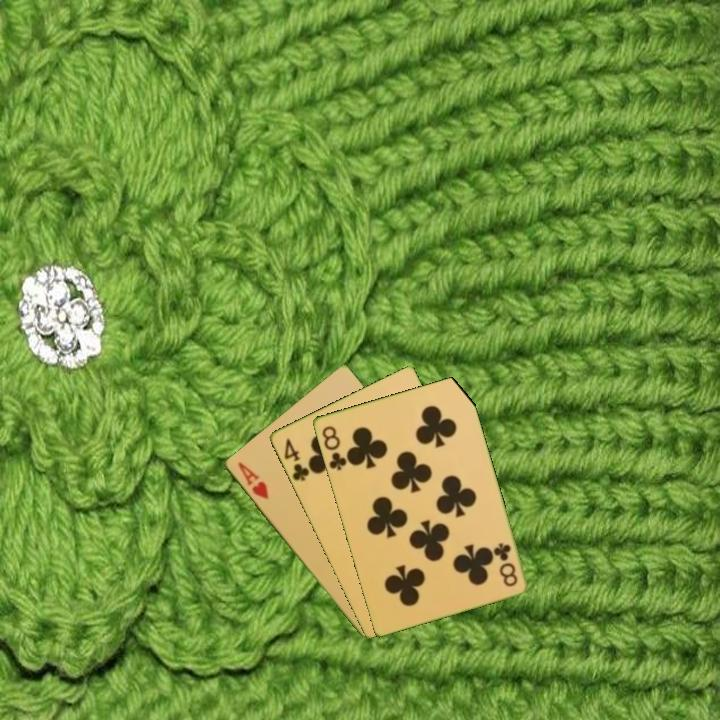4c: (280, 434, 312, 484)
8c: (318, 422, 349, 473), (490, 539, 520, 590)
Ah: (234, 458, 272, 502)
